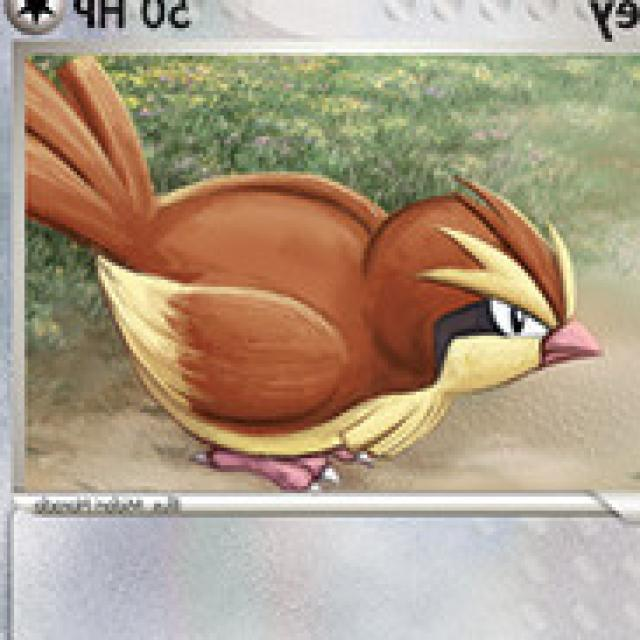Pidgey: (23, 58, 571, 480)
